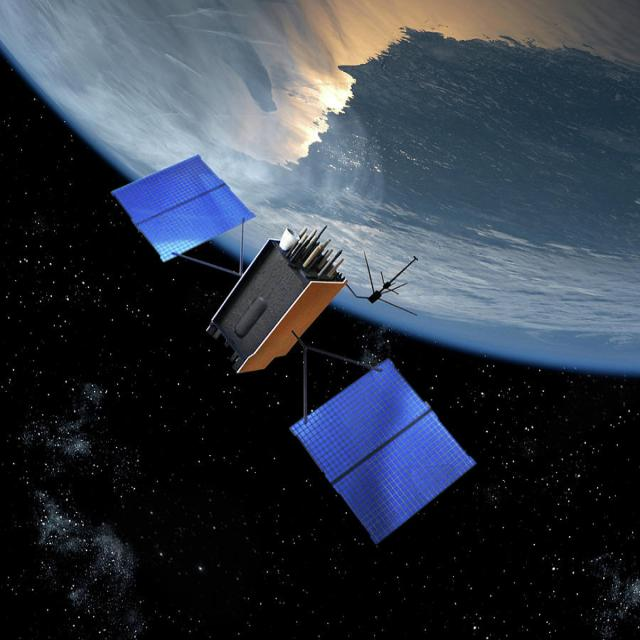satellite: (110, 120, 484, 570)
